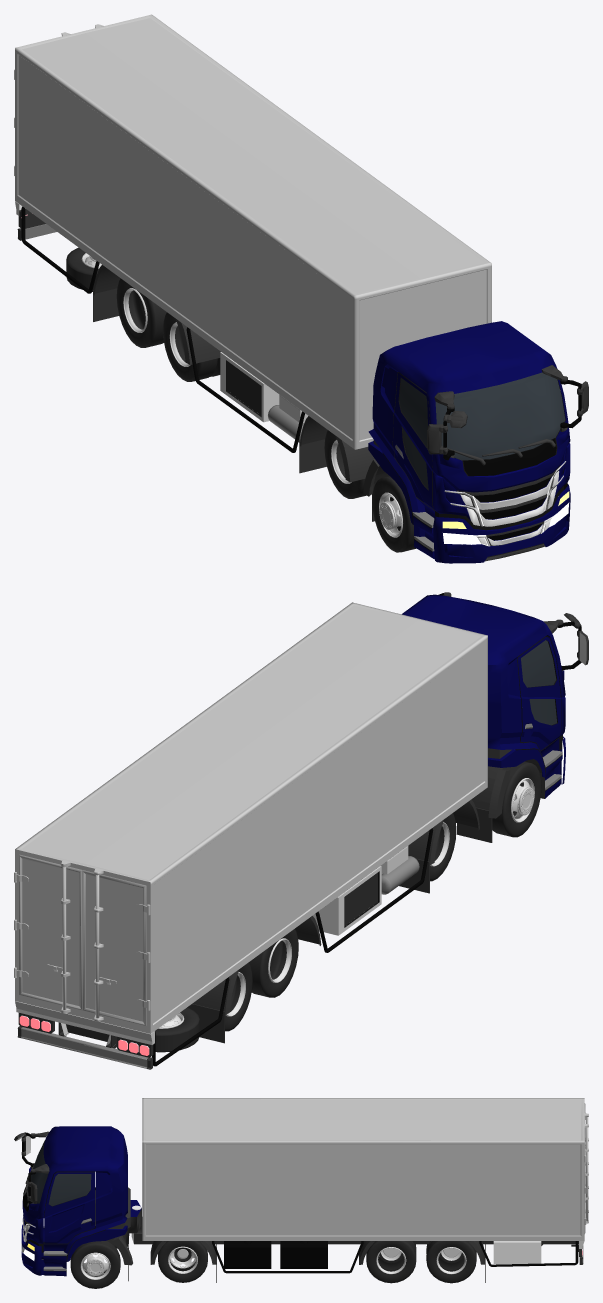
File: truck.glb
3 views of the same model, one above another, from view 1: azimuth 30°, elevation 25°; view 2: azimuth 150°, elevation 25°; view 3: azimuth 270°, elevation 25° (orthographic). The views are drawn at different scales.
Parts seen in each view (by area): view 1: Body_CargoBox, Cab_Paint, Cab_Glass_Windows, Tyre (×4), Chassis_Black2, Cab_Trim_Black, Cab_Chrome, Cab_Trim_GlossBlack, Chassis_GlossBlack, Chassis_Chrome, Cab_Interior_Black, Cab_Grille_Insert (+5 smaller); view 2: Body_CargoBox, Cab_Paint, Tyre (×4), Chassis_Black2, Chassis_Chrome, Cab_Trim_Black, Chassis_Metal, Cab_Glass_Windows, Chassis_Black, Chassis_GlossBlack, SpareWheel_Tyre, Rim (+1 smaller); view 3: Body_CargoBox, Cab_Paint, Tyre (×4), Chassis_GlossBlack, Rim (×4), Cab_Trim_Black, Cab_Glass_Windows, Chassis_Chrome, Chassis_Black2, Chassis_Black, Cab_Interior_Black, Cab_Trim_GlossBlack (+1 smaller).
Boxes of the visible parts, bbox=[...] form: Body_CargoBox: bbox=[14, 14, 491, 449]; Cab_Paint: bbox=[368, 321, 570, 563]; Cab_Glass_Windows: bbox=[399, 372, 565, 489]; Tyre (×4): bbox=[116, 278, 415, 552]; Chassis_Black2: bbox=[17, 209, 374, 482]; Cab_Trim_Black: bbox=[363, 365, 588, 561]; Cab_Chrome: bbox=[444, 461, 566, 546]; Cab_Trim_GlossBlack: bbox=[443, 380, 581, 476]; Chassis_GlossBlack: bbox=[21, 206, 304, 452]; Chassis_Chrome: bbox=[15, 201, 308, 422]; Cab_Interior_Black: bbox=[382, 372, 567, 551]; Cab_Grille_Insert: bbox=[474, 477, 550, 540]; Body_CargoBox: bbox=[14, 602, 487, 1045]; Cab_Paint: bbox=[402, 594, 565, 798]; Tyre (×4): bbox=[225, 761, 541, 1031]; Chassis_Black2: bbox=[17, 799, 479, 1069]; Chassis_Chrome: bbox=[15, 846, 408, 1044]; Cab_Trim_Black: bbox=[443, 592, 588, 842]; Chassis_Metal: bbox=[21, 856, 419, 1068]; Cab_Glass_Windows: bbox=[521, 640, 557, 725]; Chassis_Black: bbox=[58, 872, 377, 1048]; Chassis_GlossBlack: bbox=[152, 828, 433, 1066]; SpareWheel_Tyre: bbox=[155, 1007, 199, 1052]; Rim: bbox=[511, 778, 534, 822]; Body_CargoBox: bbox=[131, 1098, 588, 1243]; Cab_Paint: bbox=[21, 1126, 141, 1276]; Tyre (×4): bbox=[70, 1240, 476, 1288]; Chassis_GlossBlack: bbox=[212, 1241, 578, 1273]; Rim (×4): bbox=[80, 1246, 466, 1279]; Cab_Trim_Black: bbox=[14, 1131, 141, 1281]; Cab_Glass_Windows: bbox=[27, 1140, 91, 1206]; Chassis_Chrome: bbox=[493, 1241, 584, 1263]; Chassis_Black2: bbox=[150, 1241, 583, 1282]; Chassis_Black: bbox=[134, 1217, 578, 1251]; Cab_Interior_Black: bbox=[25, 1171, 106, 1272]; Cab_Trim_GlossBlack: bbox=[22, 1132, 35, 1211].
Bounding box in the file's own units: 2.93 × 3.84 × 13.52.
